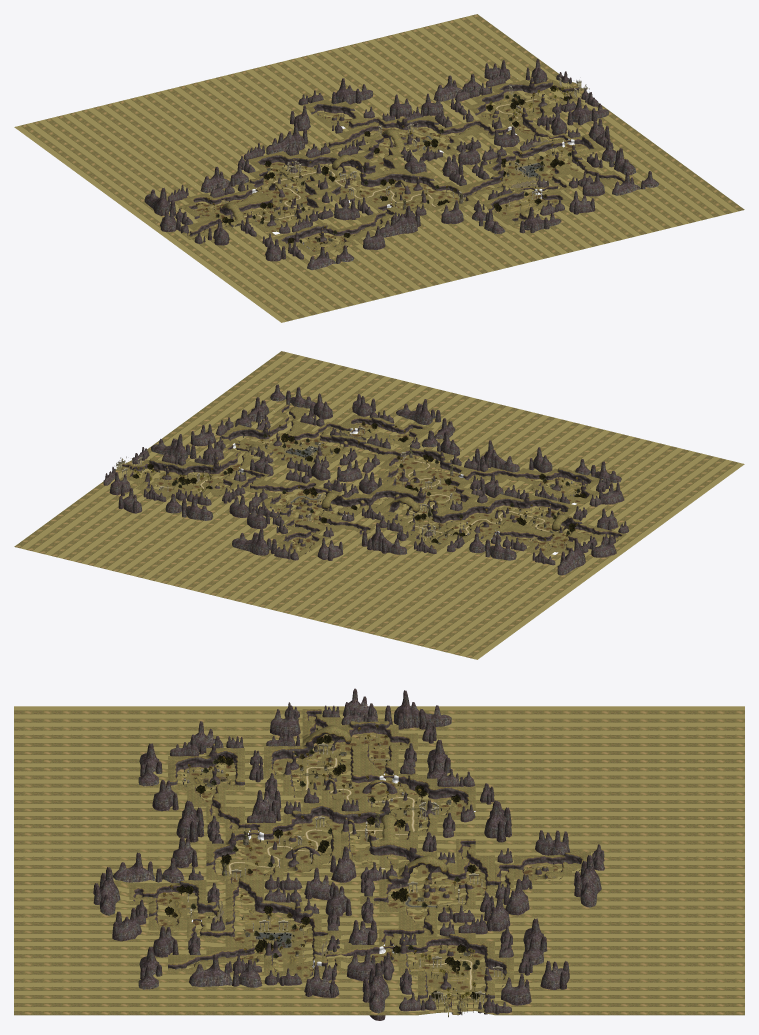
File: map_F01_02.glb
The picture shows the model from 3 angles, top to bottom: view 1: azimuth 30°, elevation 25°; view 2: azimuth 150°, elevation 25°; view 3: azimuth 270°, elevation 25°; orthographic projection. The views are drawn at different scales.
Visible parts, largest first — view 1: default_ground, FM_F01_mount01_ATA (×6), FM_F01_mount01_ASA (×5); view 2: default_ground, FM_F01_mount01_ATA (×6), FM_F01_mount01_ASA (×4); view 3: default_ground, FM_F01_mount01_ATA (×6), FM_F01_mount01_AUA (×9), FM_F01_mount01_ASA (×6), FM_F01_mount01_AVA (×6), FM_F01_mount02_ALA (×6), FM_F01_mount01_AWA (×2), FM_F01_mount02_AKA (×2), FM_F01_grd01_AAI.
Part boxes in pixels (<box>): default_ground: <box>14,14,744,322</box>; FM_F01_mount01_ATA (×6): <box>144,78,608,237</box>; FM_F01_mount01_ASA (×5): <box>200,74,659,270</box>; default_ground: <box>14,351,744,659</box>; FM_F01_mount01_ATA (×6): <box>151,399,585,575</box>; FM_F01_mount01_ASA (×4): <box>165,384,516,560</box>; default_ground: <box>14,706,744,1015</box>; FM_F01_mount01_ATA (×6): <box>93,690,601,1020</box>; FM_F01_mount01_AUA (×9): <box>152,705,531,1005</box>; FM_F01_mount01_ASA (×6): <box>113,739,547,989</box>; FM_F01_mount01_AVA (×6): <box>112,830,569,997</box>; FM_F01_mount02_ALA (×6): <box>187,756,494,963</box>; FM_F01_mount01_AWA (×2): <box>302,725,447,884</box>; FM_F01_mount02_AKA (×2): <box>168,806,244,971</box>; FM_F01_grd01_AAI: <box>418,883,456,901</box>.
Size of the model in its own units: 1371 by 90.91 by 1368.
Materials: 386 (385 with a texture image).
